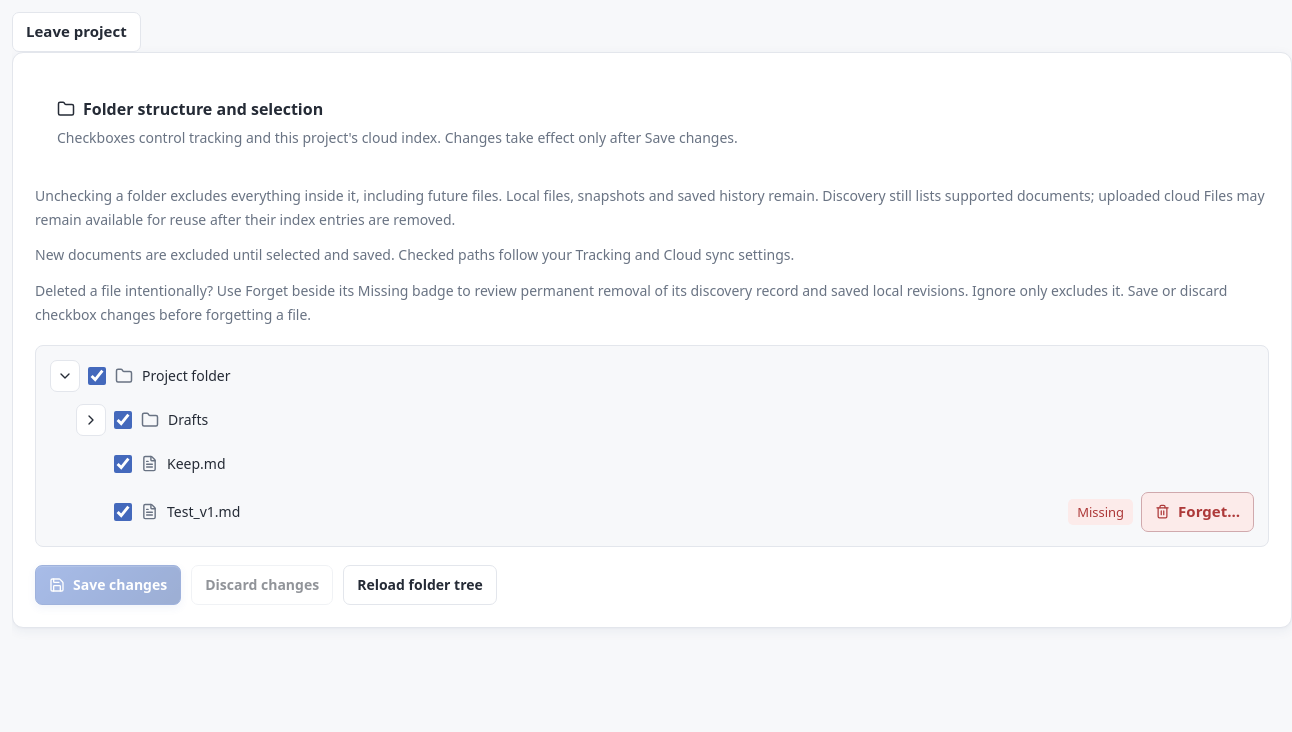
Test: requires saving or discarding checkbox drafts before forgetting a file
Expected: the checkbox named "Include Drafts" is enabled, [114,411,132,429]
Click the checkbox named "Include Keep.md".
click(123, 464)  # box [114,455,132,473]
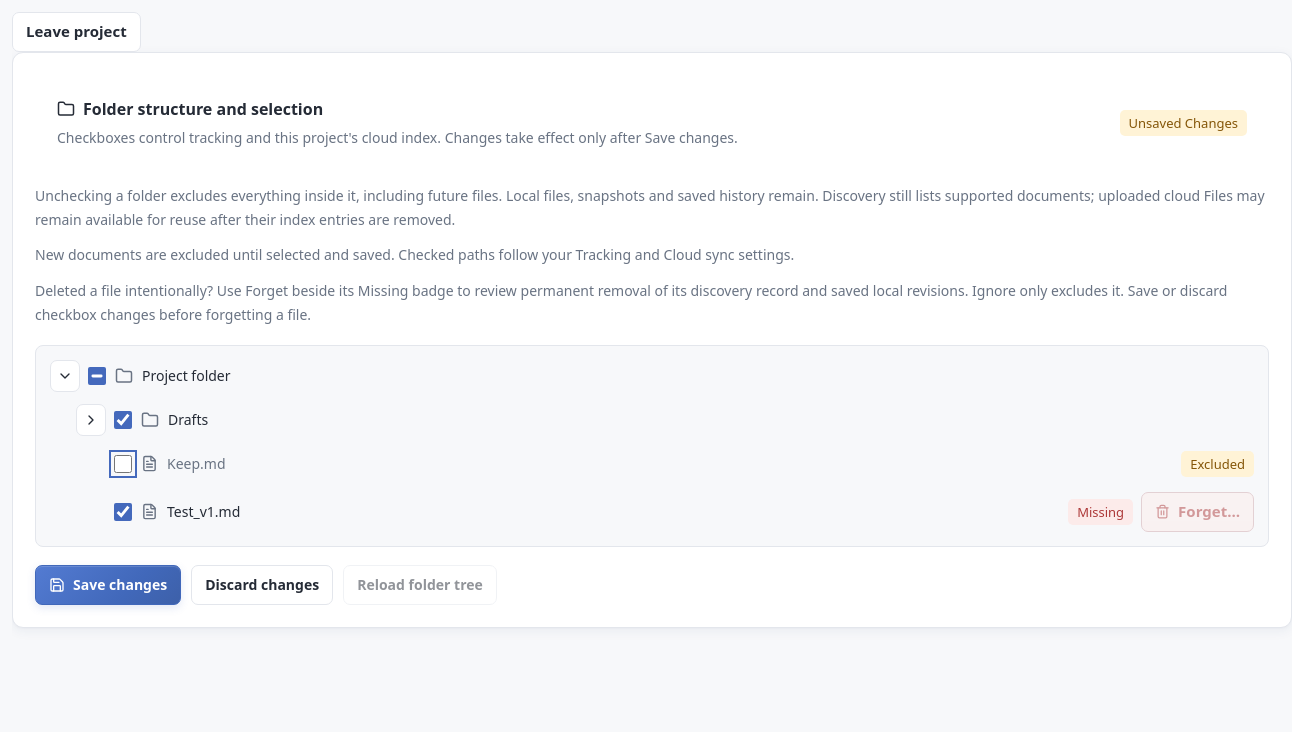
Expected: the button with aria-label "Forget missing Test_v1.md" is disabled, [1141,492,1254,532]
Click the button "Discard changes".
click(262, 585)  # box [191,565,333,605]
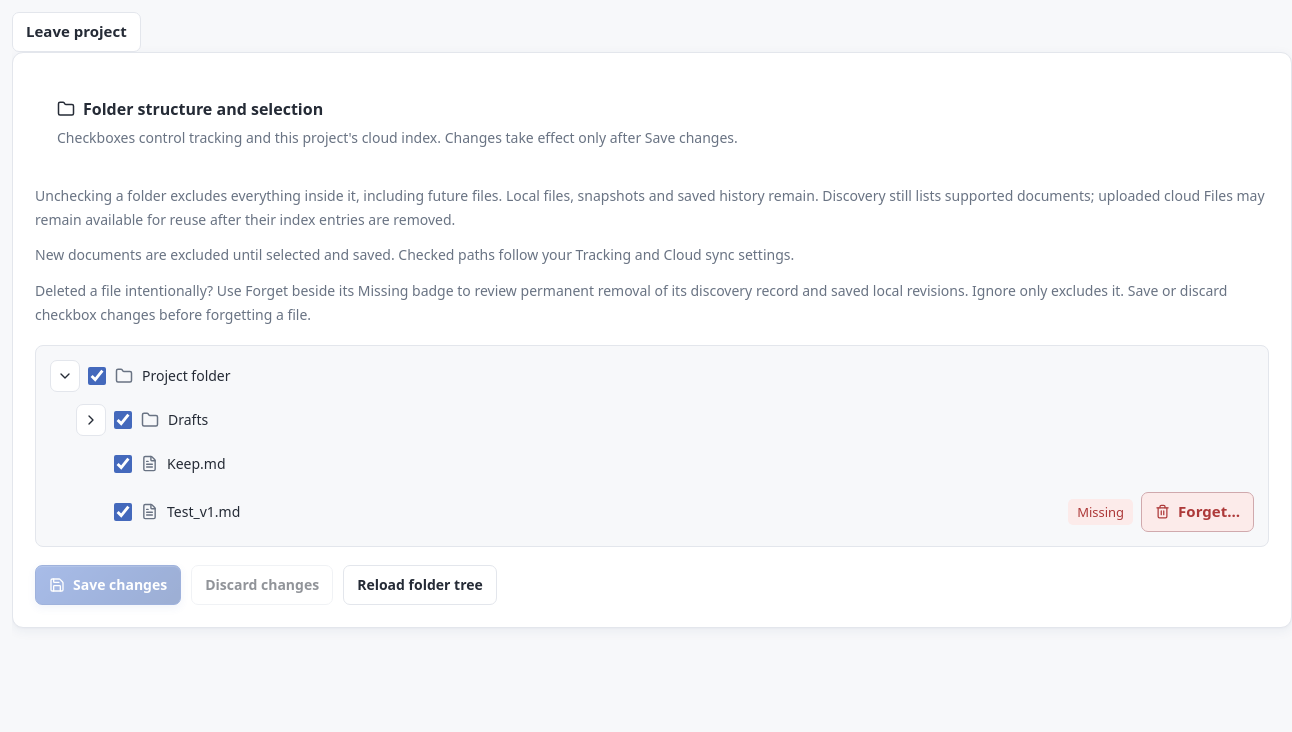
Expected: the button with aria-label "Forget missing Test_v1.md" is enabled, [1141,492,1254,532]
